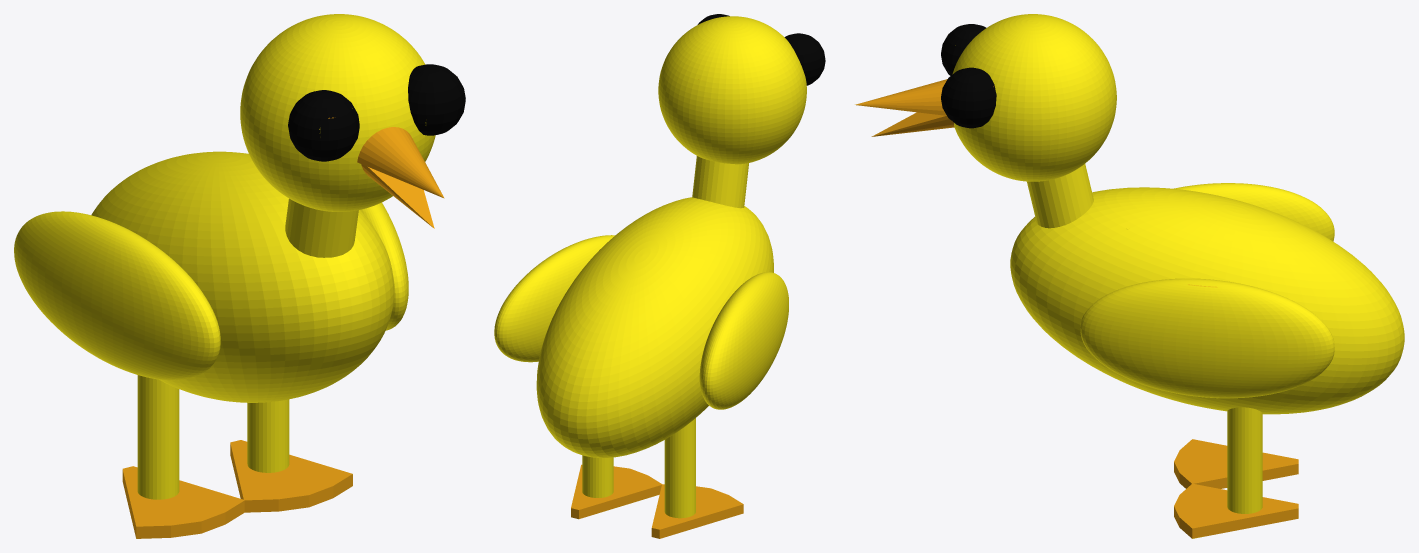
File: Bird.fbx
The picture shows the model from 3 angles, left to right: view 1: azimuth 30°, elevation 25°; view 2: azimuth 150°, elevation 25°; view 3: azimuth 270°, elevation 25°; orthographic projection. The views are drawn at different scales.
Parts seen in each view (by area): view 1: Bird; view 2: Bird; view 3: Bird.
Part boxes in pixels (x1,y1,x2,y2): Bird: [14, 14, 465, 538]; Bird: [494, 14, 825, 538]; Bird: [855, 14, 1404, 538].
Size of the model in its own units: 0.9137 by 1.59 by 1.67.
